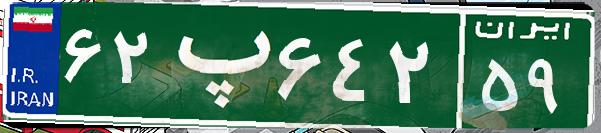2: (385, 28, 445, 110), (110, 28, 158, 105)
4: (330, 28, 385, 110)
5: (475, 38, 525, 113)
6: (273, 28, 330, 110), (57, 26, 110, 107)
9: (525, 38, 570, 115)
پ: (158, 15, 273, 115)
